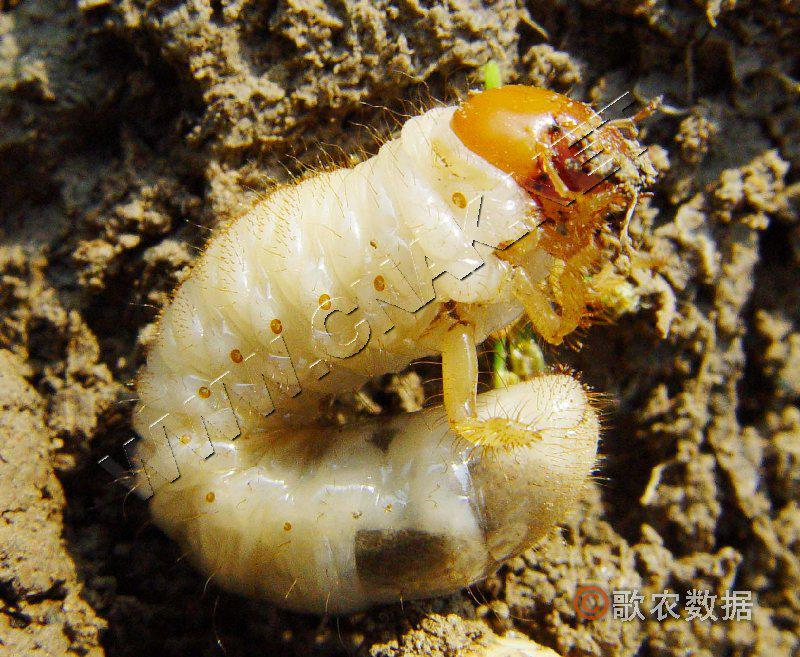grub: (125, 73, 676, 622)
